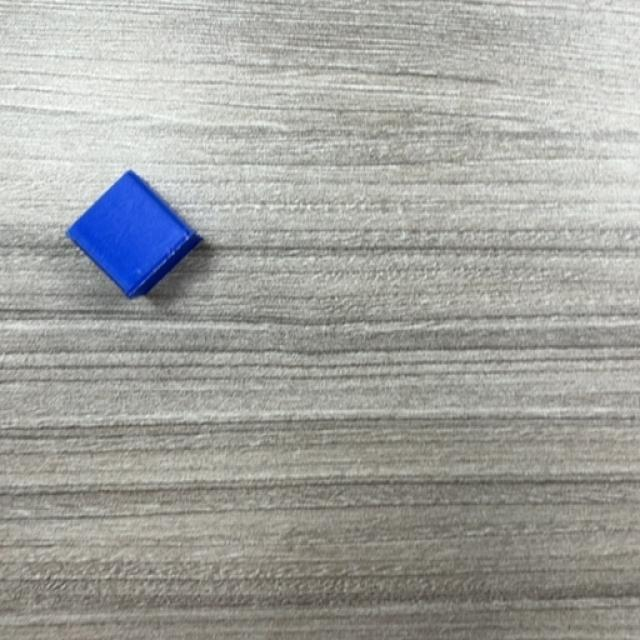Azul: (64, 170, 205, 301)
